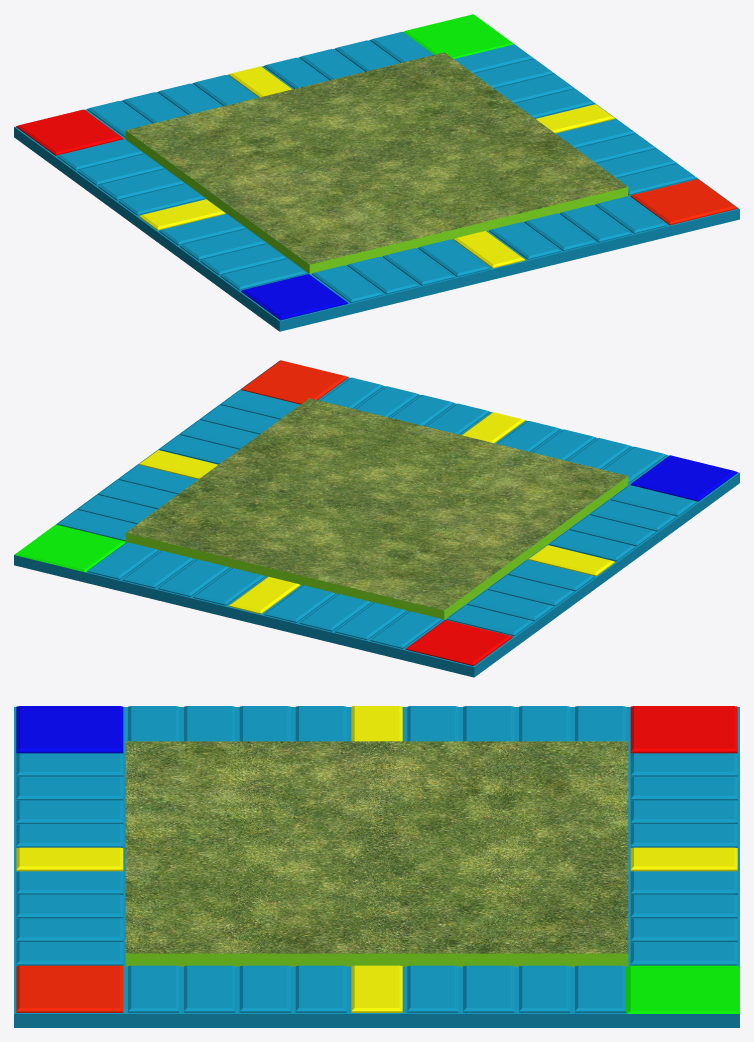
Rendered from board.obj.
The picture shows the model from 3 angles, top to bottom: view 1: azimuth 30°, elevation 25°; view 2: azimuth 150°, elevation 25°; view 3: azimuth 270°, elevation 25°; orthographic projection. The views are drawn at different scales.
Visible parts, largest first — view 1: Cube.001_Cube.002, Cube_Cube.001, Cube.007_Cube.008, Cube.009_Cube.018, Cube.008_Cube.014, Cube.003_Cube.009, Cube.006_Cube.015, Cube.005_Cube.012; view 2: Cube.001_Cube.002, Cube_Cube.001, Cube.007_Cube.008, Cube.009_Cube.018, Cube.008_Cube.014, Cube.003_Cube.009, Cube.006_Cube.015, Cube.005_Cube.012; view 3: Cube.001_Cube.002, Cube_Cube.001, Cube.007_Cube.008, Cube.009_Cube.018, Cube.008_Cube.014, Cube.003_Cube.009, Cube.006_Cube.015, Cube.005_Cube.012.
Boxes of the visible parts, bbox=[...] form: Cube.001_Cube.002: bbox=[126, 52, 627, 264]; Cube_Cube.001: bbox=[14, 32, 739, 331]; Cube.007_Cube.008: bbox=[139, 66, 614, 268]; Cube.009_Cube.018: bbox=[125, 130, 628, 273]; Cube.008_Cube.014: bbox=[403, 14, 514, 58]; Cube.003_Cube.009: bbox=[241, 274, 348, 320]; Cube.006_Cube.015: bbox=[16, 109, 123, 155]; Cube.005_Cube.012: bbox=[630, 179, 737, 225]; Cube.001_Cube.002: bbox=[126, 398, 627, 610]; Cube_Cube.001: bbox=[14, 361, 739, 677]; Cube.007_Cube.008: bbox=[139, 412, 614, 614]; Cube.009_Cube.018: bbox=[125, 476, 628, 619]; Cube.008_Cube.014: bbox=[14, 524, 125, 572]; Cube.003_Cube.009: bbox=[630, 455, 737, 501]; Cube.006_Cube.015: bbox=[405, 620, 512, 665]; Cube.005_Cube.012: bbox=[241, 360, 348, 404]; Cube.001_Cube.002: bbox=[125, 741, 628, 953]; Cube_Cube.001: bbox=[14, 706, 739, 1027]; Cube.007_Cube.008: bbox=[16, 706, 737, 1012]; Cube.009_Cube.018: bbox=[125, 953, 628, 966]; Cube.008_Cube.014: bbox=[626, 965, 739, 1013]; Cube.003_Cube.009: bbox=[16, 706, 123, 753]; Cube.006_Cube.015: bbox=[630, 706, 737, 753]; Cube.005_Cube.012: bbox=[16, 965, 123, 1012].
Size of the model in its own units: 40 by 1.65 by 40.
8 materials, 1 textured.
